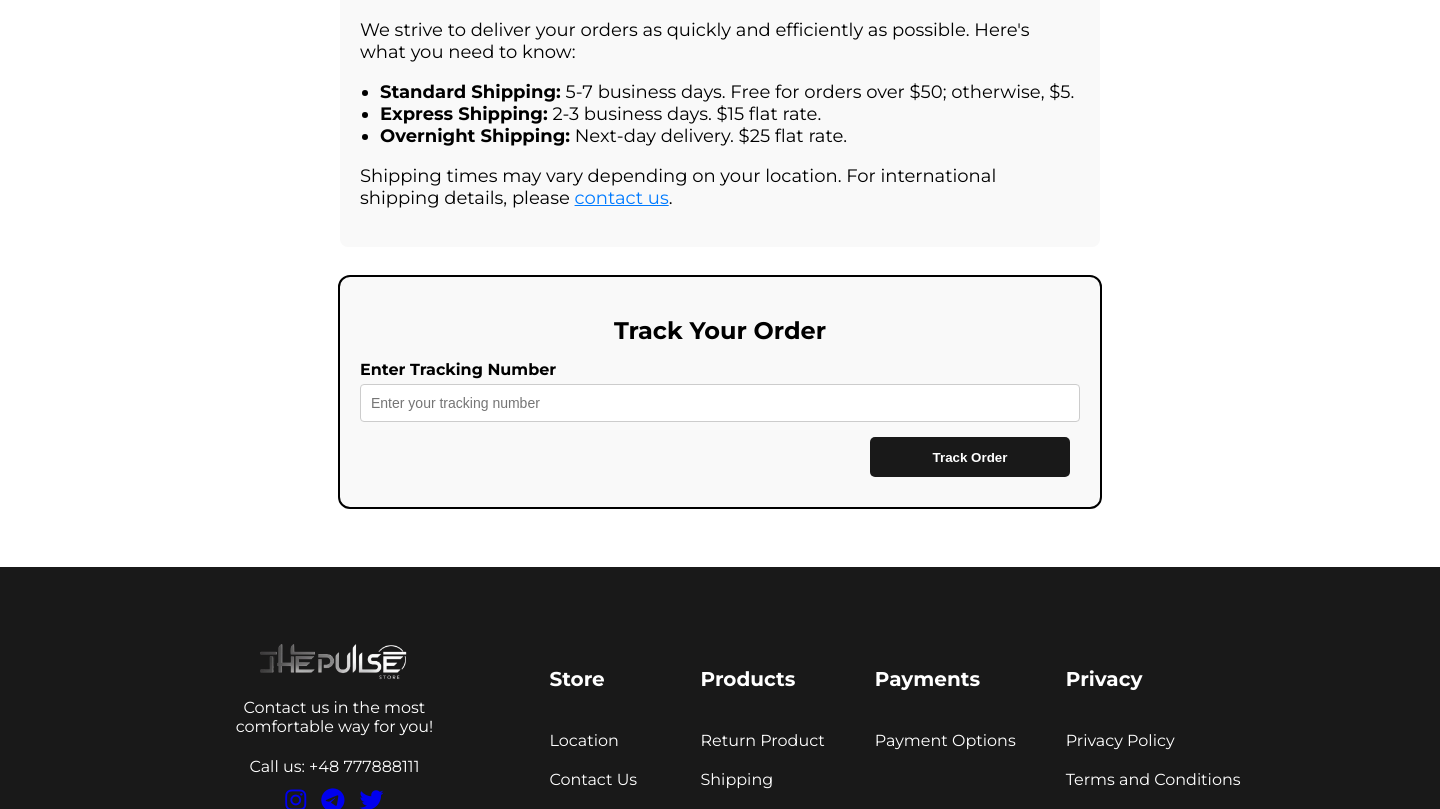
Test: ShippingPage Component › displays tracking information for a valid tracking number
This screenshot has width=1440, height=809.
(page scrolled)
Step 1. Type "12345" into the field labelled "Enter Tracking Number" → (720, 403), box [360,384,1080,422]
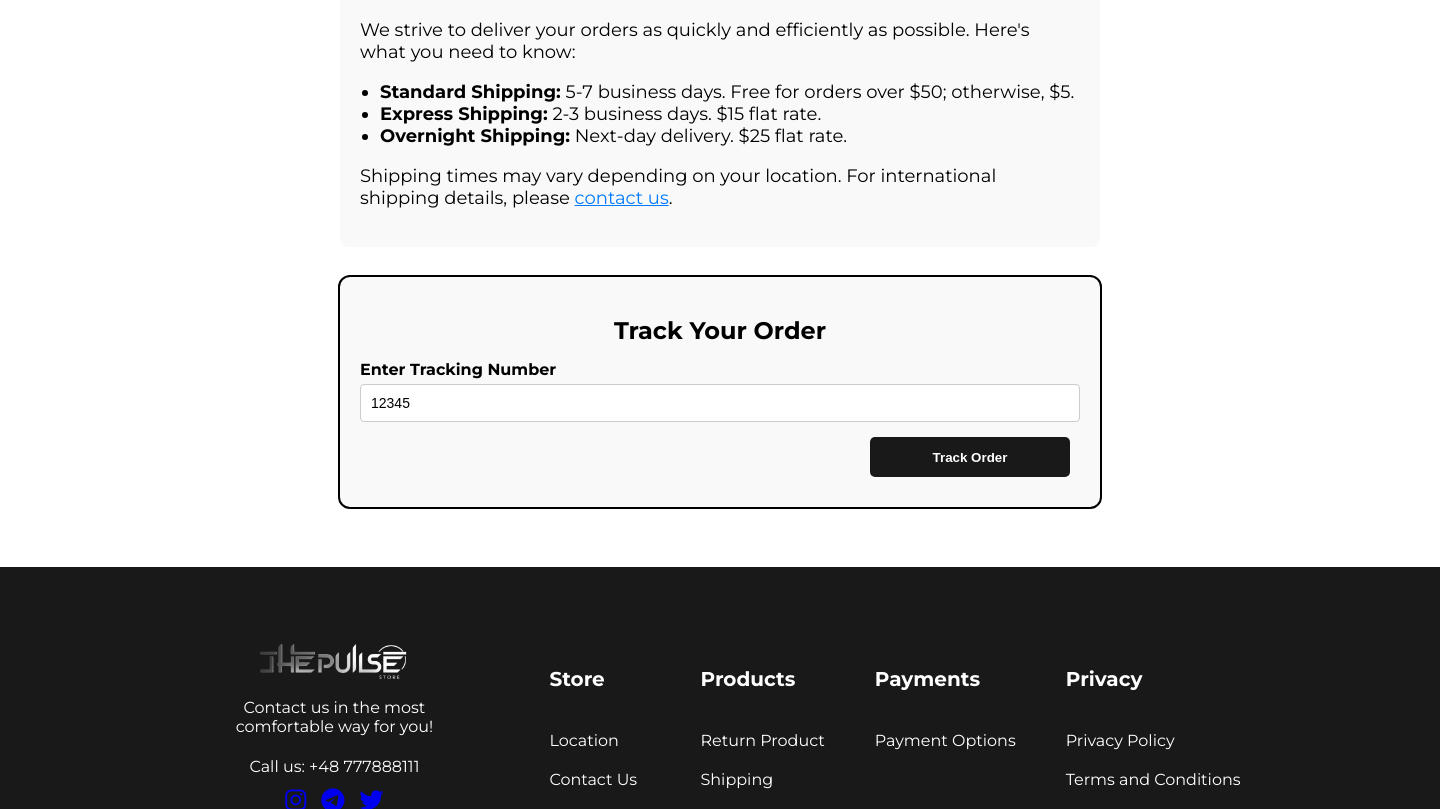
Step 2. Click the button "Track Order" → (970, 457), box [870,437,1070,477]
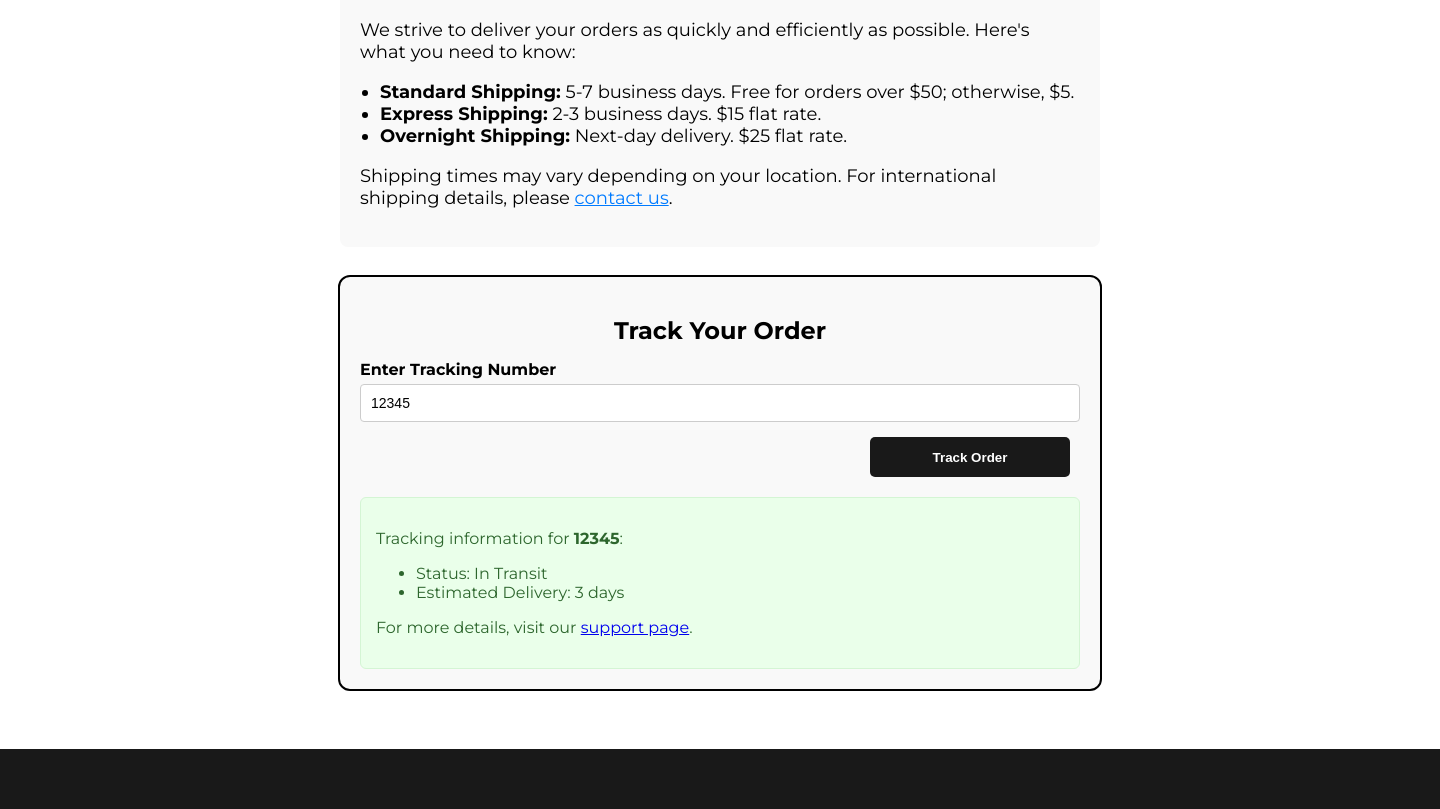
Expected: the list item "Status: In Transit" is shown, [416,564,547,583]
Expected: the list item "Estimated Delivery: 3 days" is shown, [416,583,624,602]
